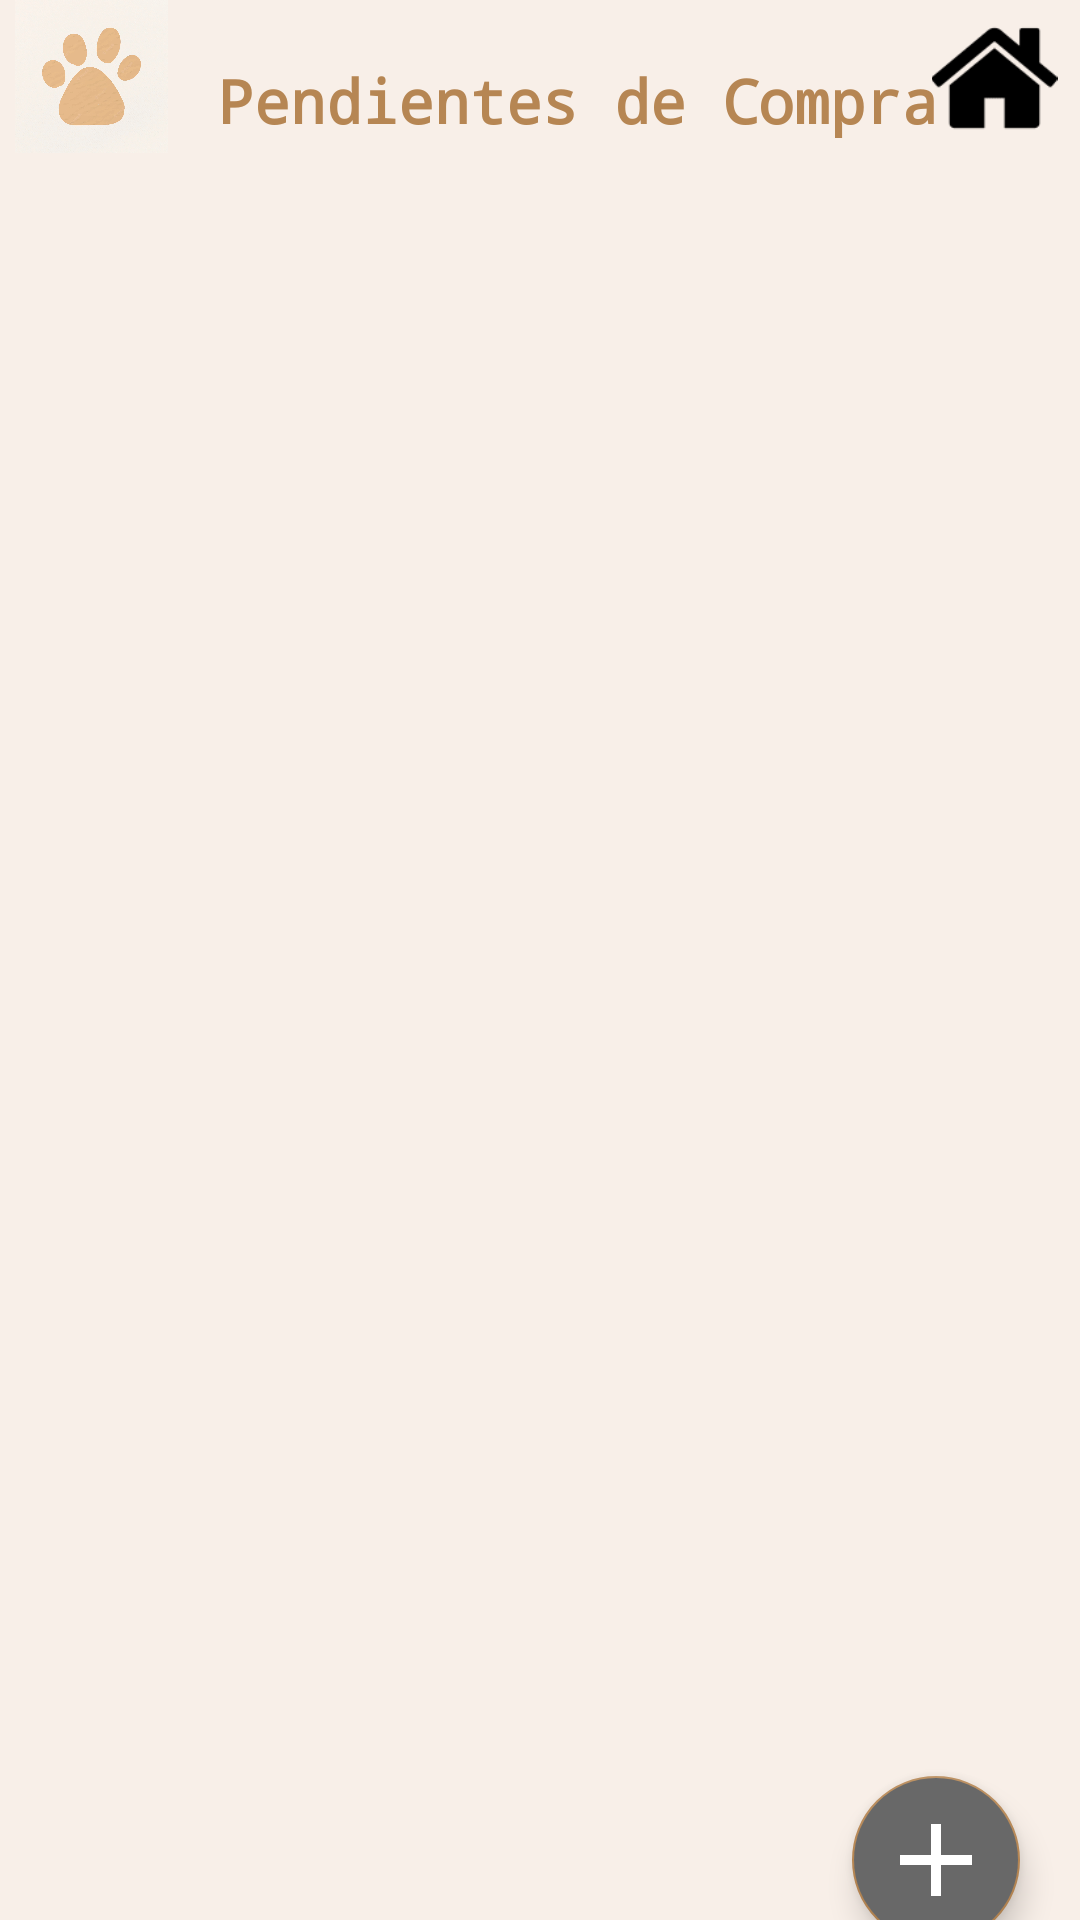

Screen size 1080px×1920px. Icon name, then its box in pixels as [left=x1, top=y1, right=x2, bottom=y2]:
home: [left=932, top=27, right=1058, bottom=129]
huella: [left=42, top=28, right=141, bottom=125]
